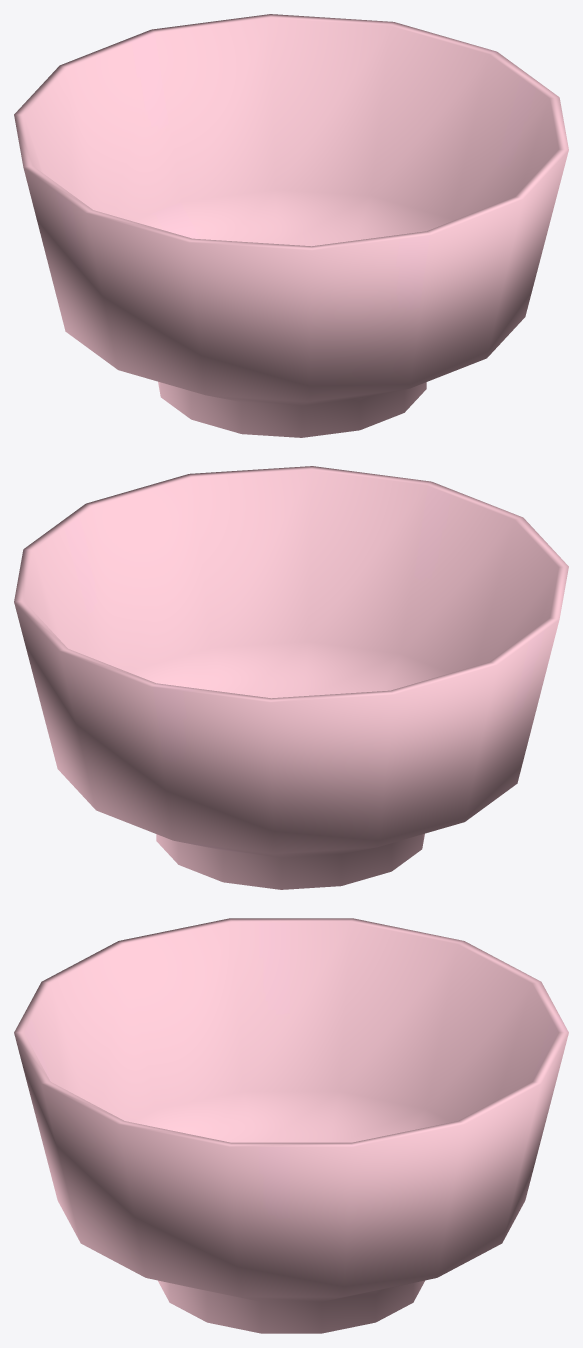
The model's file is LPinkSBowl.fbx.
3 views of the same model, one above another, from view 1: azimuth 30°, elevation 25°; view 2: azimuth 150°, elevation 25°; view 3: azimuth 270°, elevation 25° (orthographic).
Parts seen in each view (by area): view 1: bowl.007; view 2: bowl.007; view 3: bowl.007.
Boxes of the visible parts, x1,y1,x2,y2 form: bowl.007: (14, 14, 568, 437); bowl.007: (14, 466, 568, 889); bowl.007: (14, 918, 568, 1333).
Size of the model in its own units: 342 by 171 by 351.
